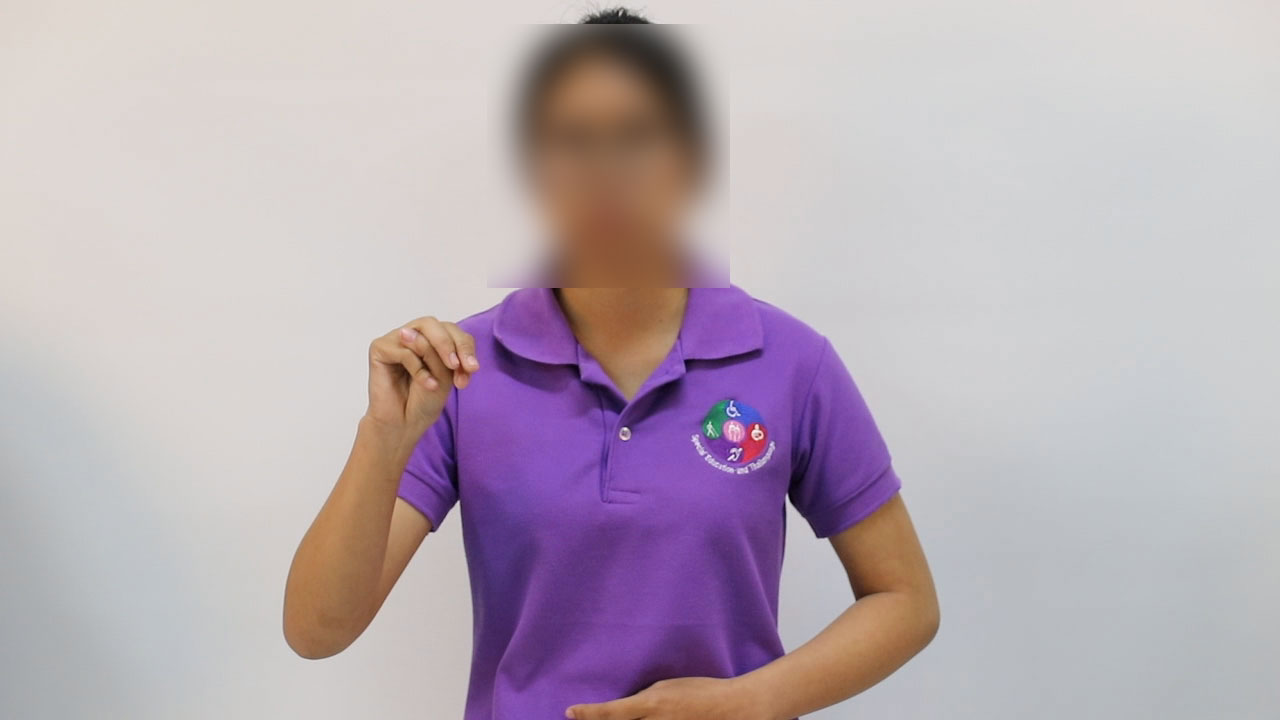mor: (355, 286, 487, 454)
